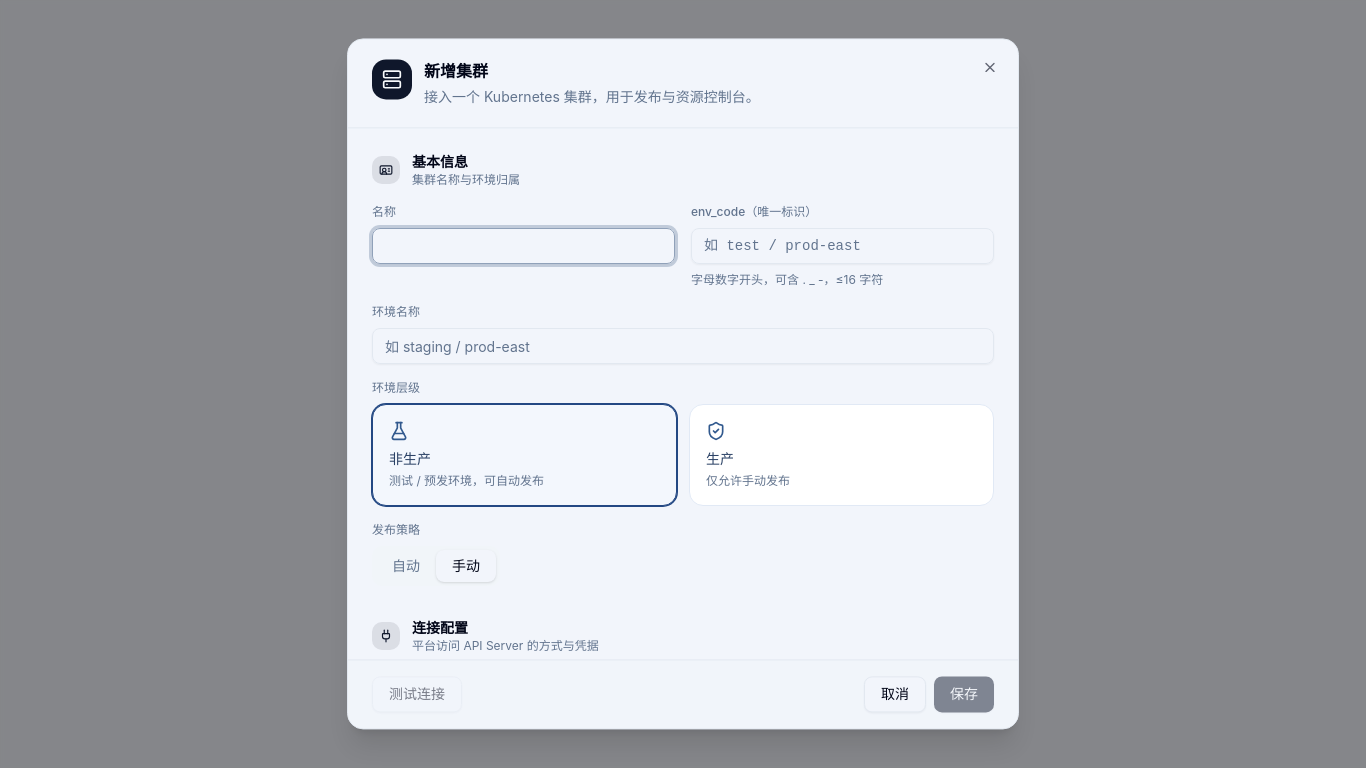
ClusterFormDialog › selecting 生产 marks it checked, forces 手动, and disables 自动
Click the radio button labelled "生产 仅允许手动发布". click: (748, 481)
box: [689,404,994,506]
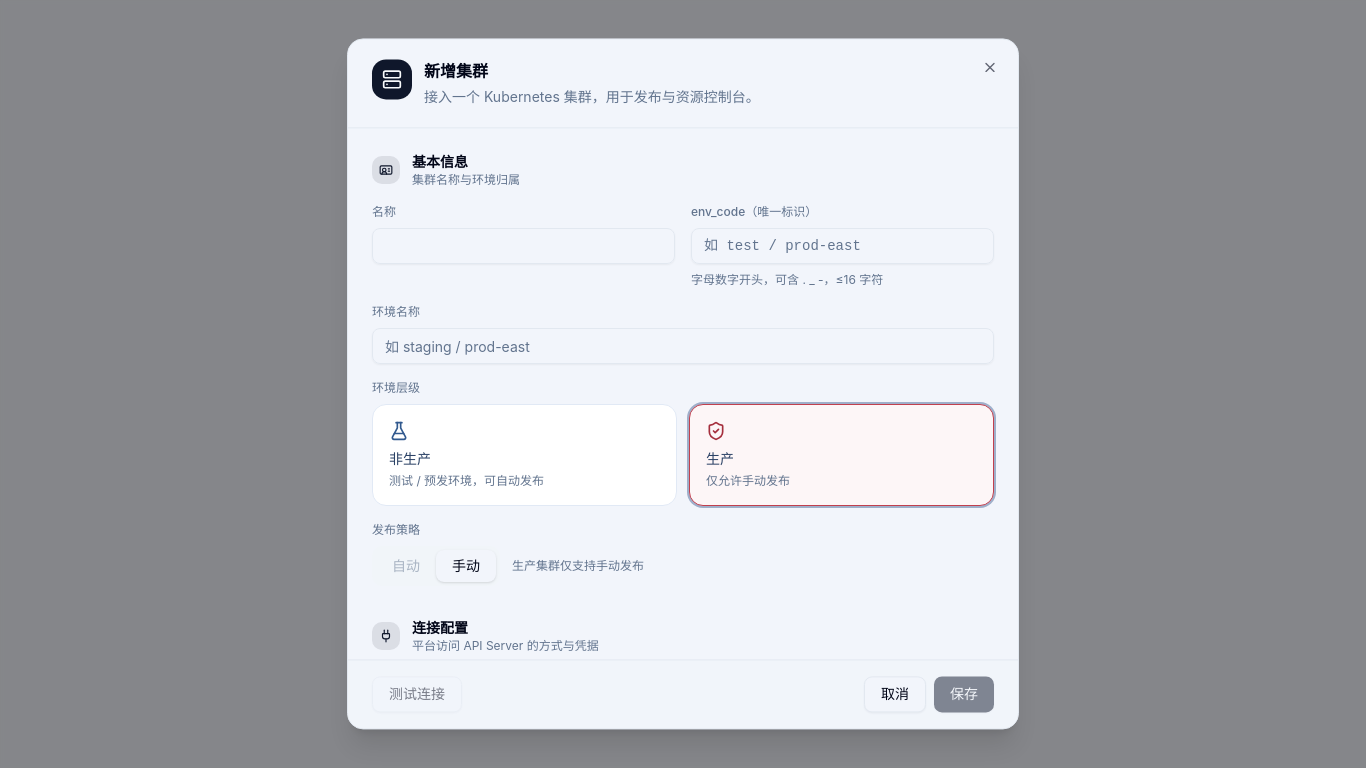
Expected: the radio button labelled "自动" is disabled, [376,550,436,582]
Expected: the text "生产集群仅支持手动发布" is shown, [512,558,644,574]
